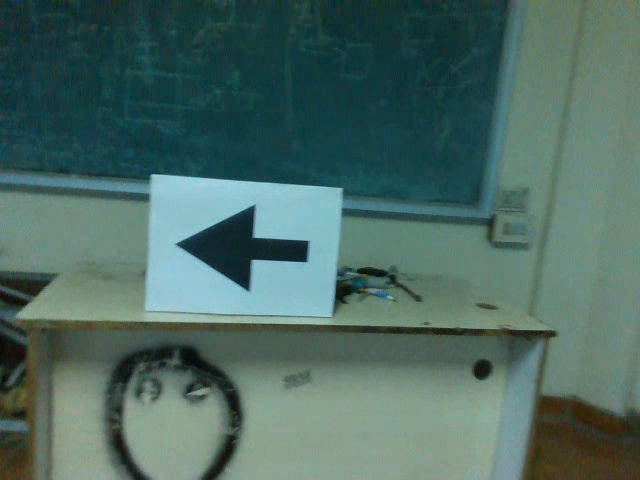Left: (172, 200, 315, 298)
